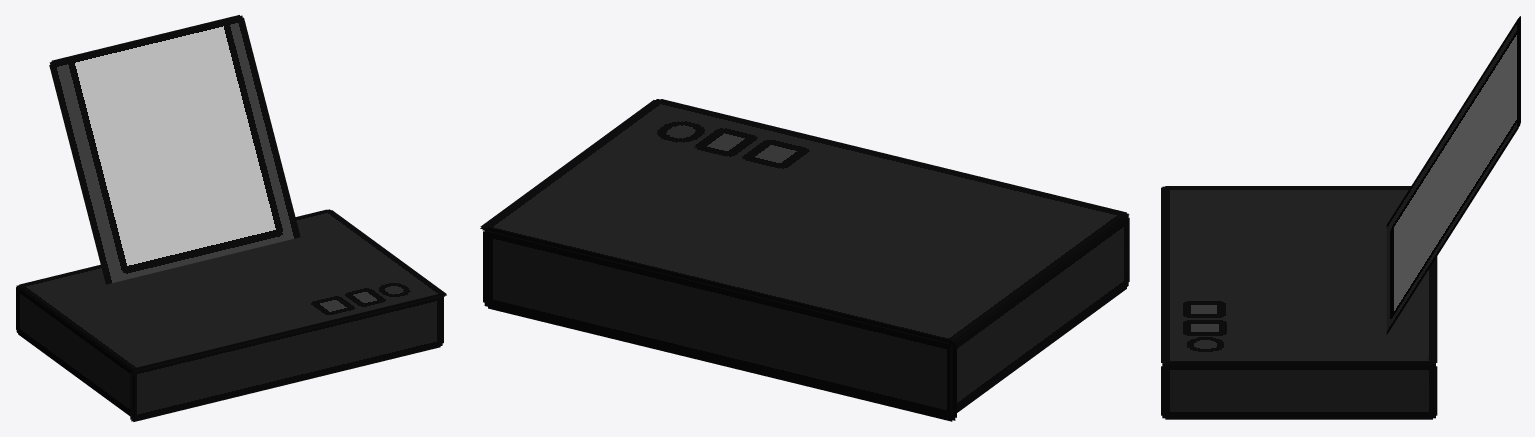
The model's file is printer.gltf.
3 views of the same model, side by side, from view 1: azimuth 30°, elevation 25°; view 2: azimuth 150°, elevation 25°; view 3: azimuth 270°, elevation 25° (orthographic). The views are drawn at different scales.
Visible parts, largest first — view 1: default; view 2: default; view 3: default.
Part boxes in pixels (box(x1,y1,x2,y2)): default: box(16, 15, 446, 421); default: box(480, 99, 1129, 421); default: box(1161, 16, 1520, 419).
Bounding box in the file's own units: 18.5 × 12.98 × 15.62.
Materials: 1 (1 with a texture image).
